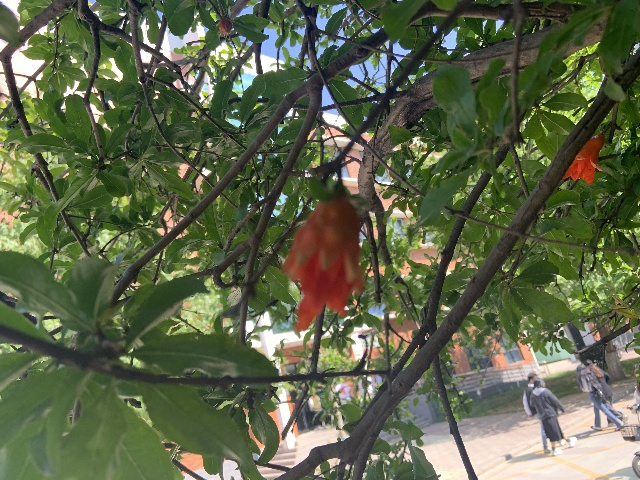bud: (218, 18, 232, 34)
flower: (281, 194, 363, 331), (563, 133, 604, 184)
